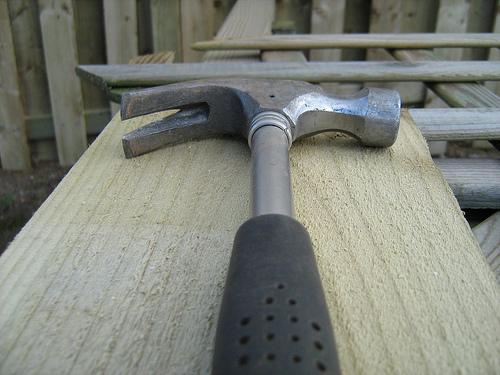hammer: (117, 76, 402, 374)
